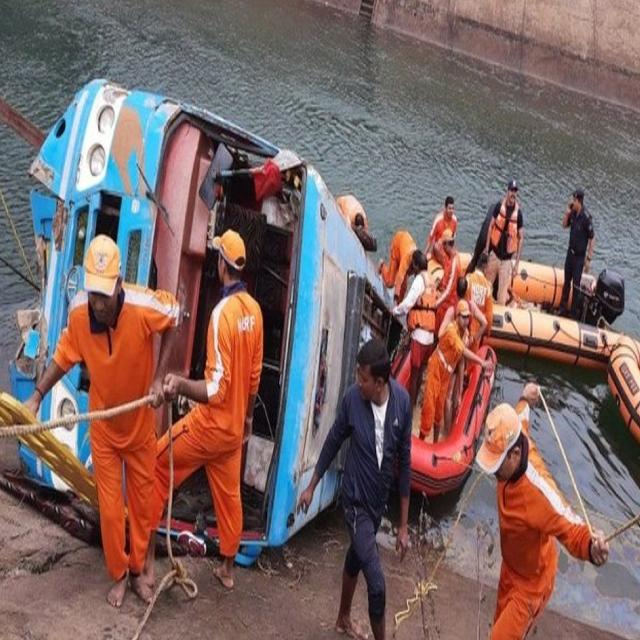accident: (10, 80, 399, 561)
